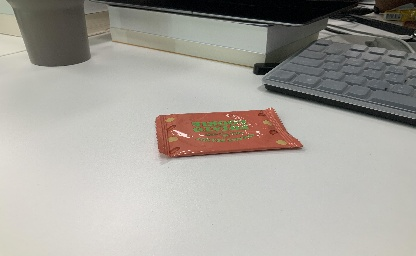pota: (152, 105, 305, 160)
